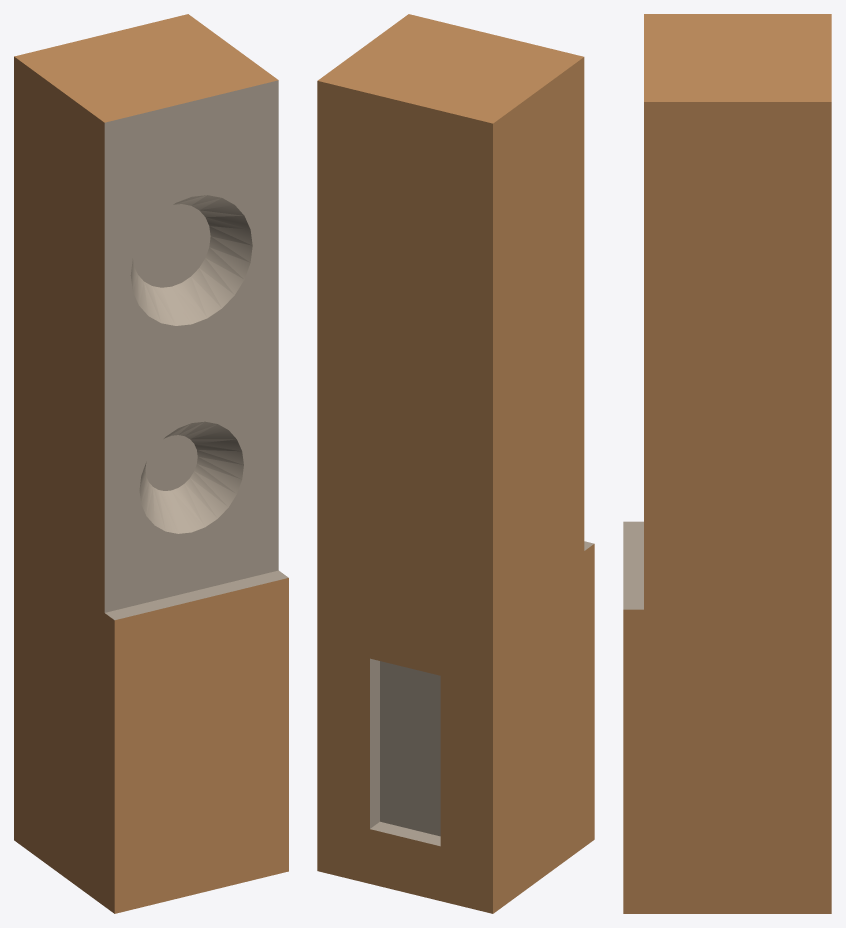
The model's file is kitSpeaker.glb.
3 renders of one model, left to right at view 1: azimuth 30°, elevation 25°; view 2: azimuth 150°, elevation 25°; view 3: azimuth 270°, elevation 25°, orthographic. The views are drawn at different scales.
Visible parts, largest first — view 1: kitSpeaker_wood, kitSpeaker_metalMedium; view 2: kitSpeaker_wood, kitSpeaker_metalMedium; view 3: kitSpeaker_wood, kitSpeaker_metalMedium.
Boxes of the visible parts, box(x1,y1,x2,y2) form: kitSpeaker_wood: box(14, 14, 288, 913); kitSpeaker_metalMedium: box(104, 80, 288, 620); kitSpeaker_wood: box(317, 14, 594, 913); kitSpeaker_metalMedium: box(370, 541, 593, 846); kitSpeaker_wood: box(623, 14, 831, 913); kitSpeaker_metalMedium: box(623, 521, 643, 609).
Size of the model in its own units: 0.296 by 1.27 by 0.296.
